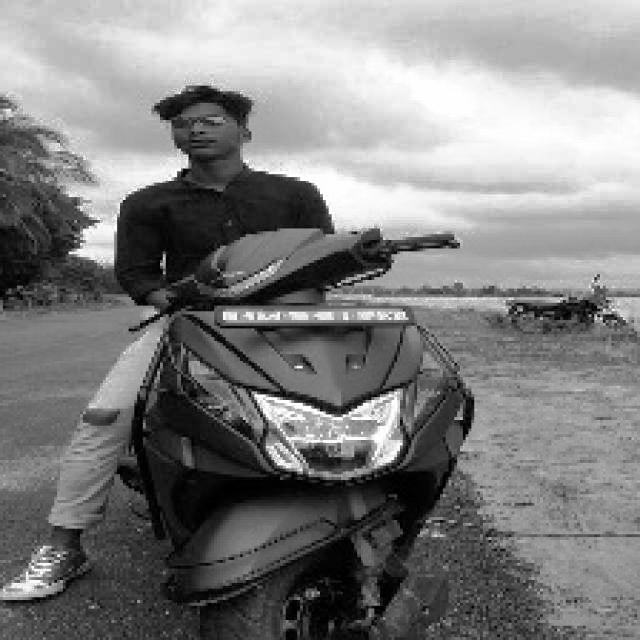Bike: (142, 234, 494, 634)
